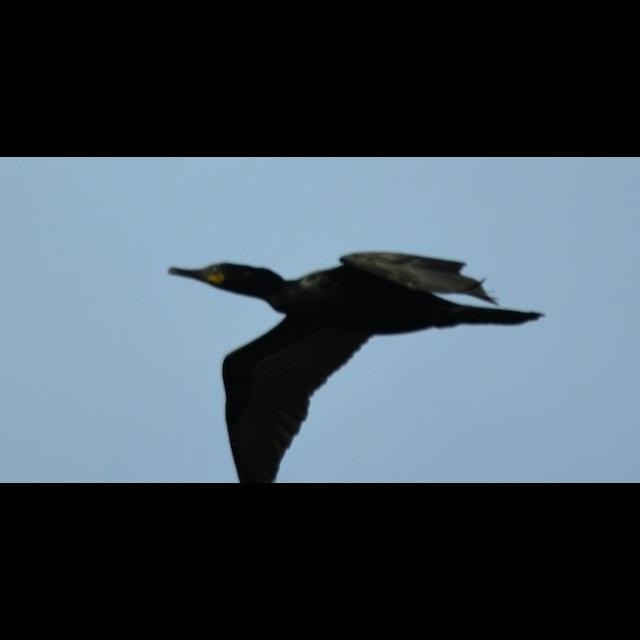cormorant: (165, 247, 553, 483)
